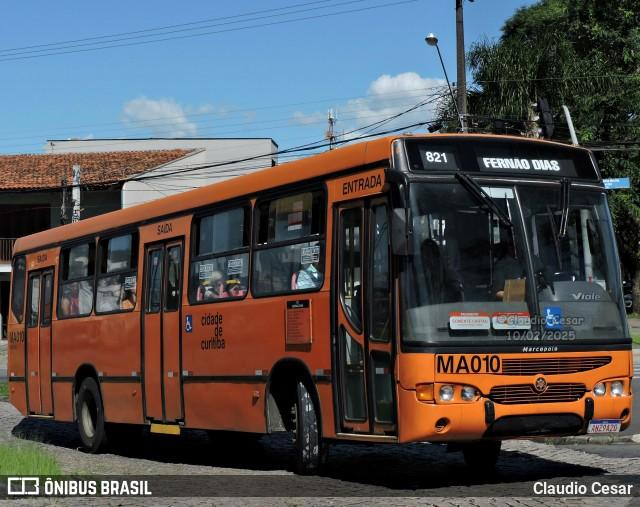FERNAO DIAS: (477, 151, 565, 175)
